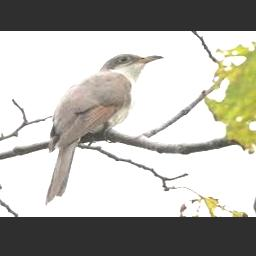Cuckoo: (45, 53, 165, 205)
